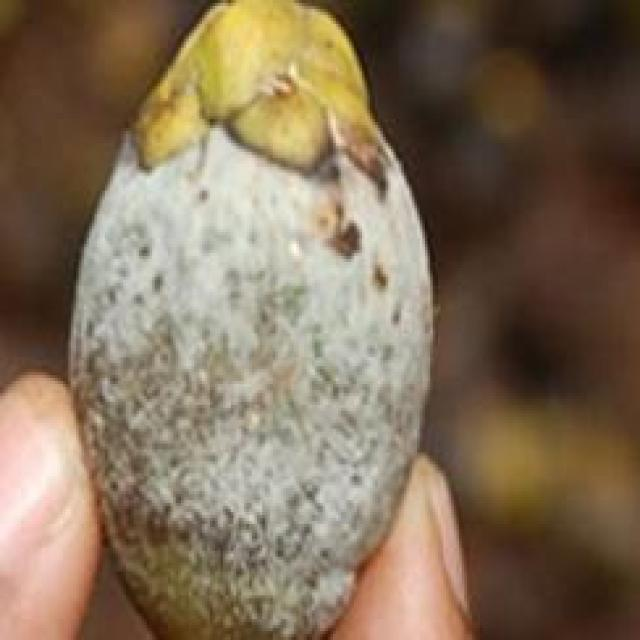damaged: (66, 0, 435, 637)
